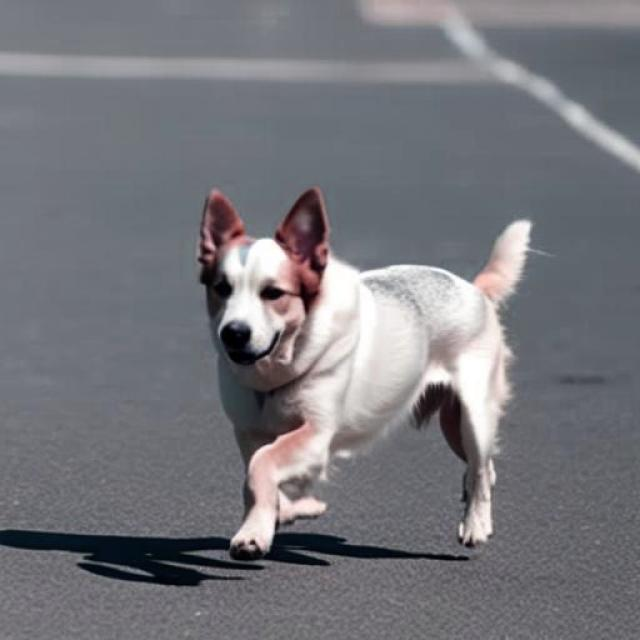Dog: (198, 186, 533, 562)
